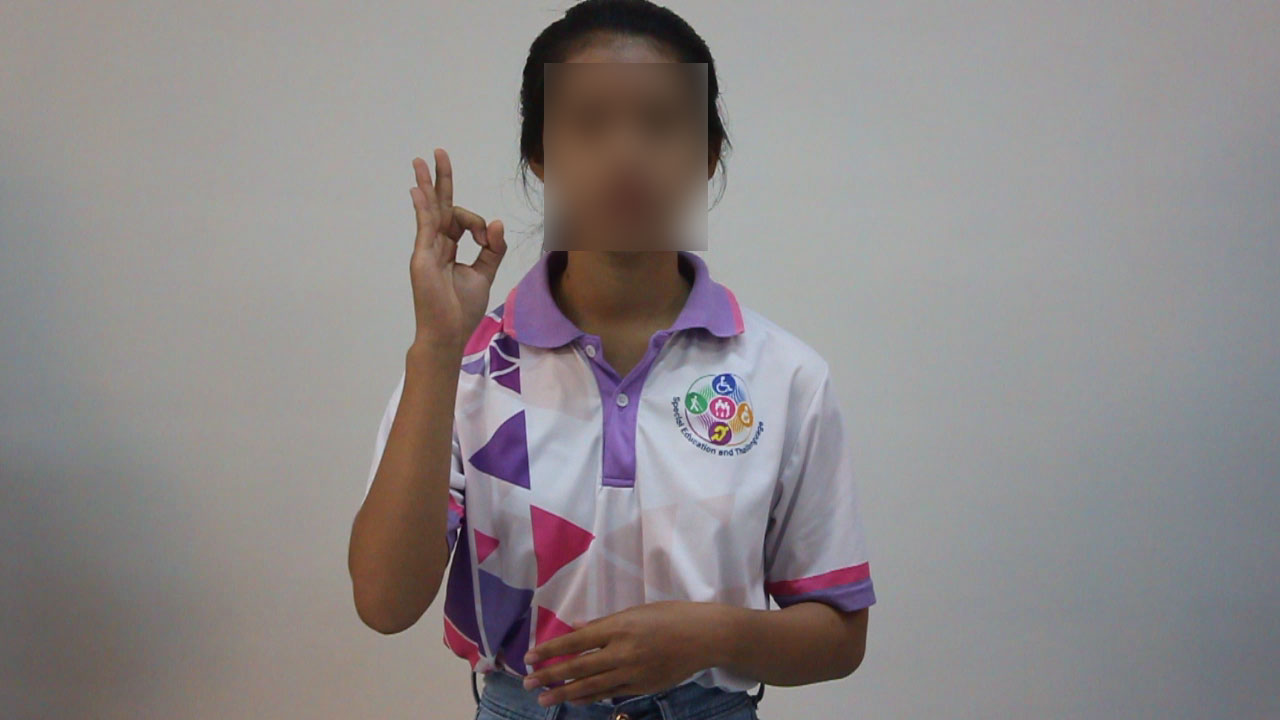for: (394, 139, 513, 364)
